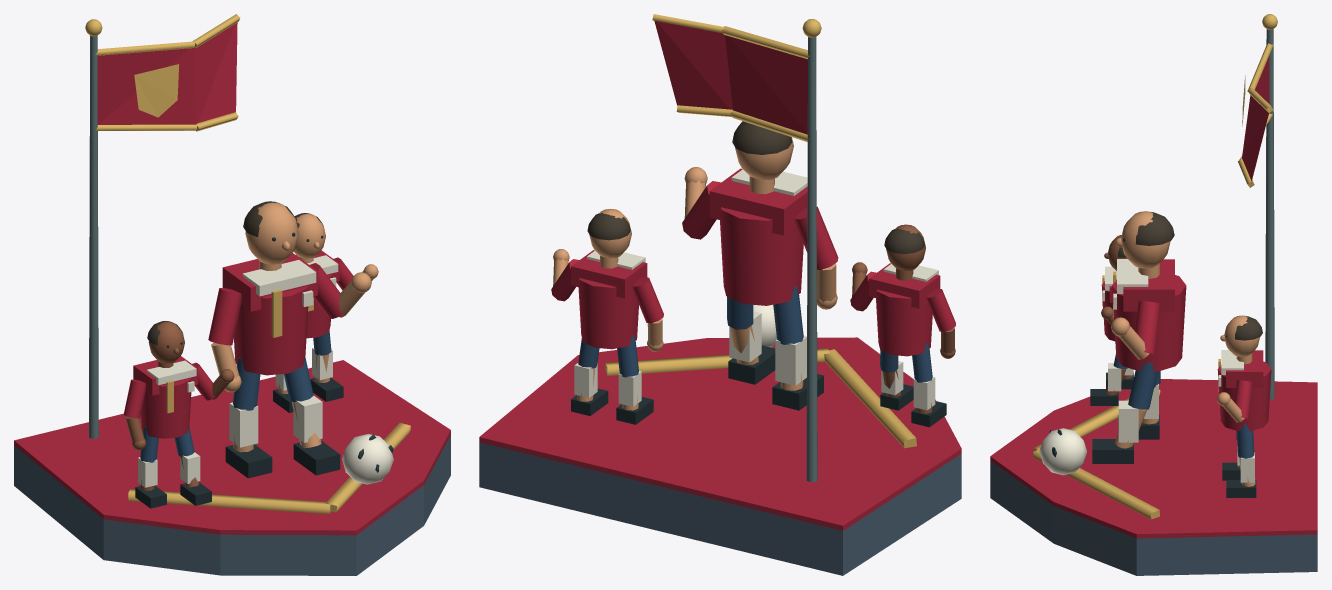
File: expedition.glb
3 views of the same model, side by side, from view 1: azimuth 30°, elevation 25°; view 2: azimuth 150°, elevation 25°; view 3: azimuth 270°, elevation 25° (orthographic). The views are drawn at different scales.
Visible parts, largest first — view 1: foundation_crimson, foundation_slate, team_banner_crimson, captain_torso_crimson, banner_pole_iron, base_chevron_gold, captain_arms_crimson, captain_socks_white, captain_boots_black, captain_head_skin, squad_left_torso_crimson, banner_trim_gold (+19 smaller); view 2: foundation_crimson, foundation_slate, team_banner_crimson, captain_torso_crimson, banner_pole_iron, base_chevron_gold, squad_right_torso_crimson, squad_left_torso_crimson, captain_shoulders_crimson, banner_trim_gold, captain_arms_crimson, captain_socks_white (+22 smaller); view 3: foundation_crimson, foundation_slate, captain_torso_crimson, banner_pole_iron, base_chevron_gold, football_white, team_banner_crimson, captain_shoulders_crimson, squad_right_torso_crimson, captain_head_skin, captain_boots_black, captain_socks_white (+15 smaller).
Part boxes in pixels (x1,y1,x2,y2): foundation_crimson: (14,360,450,535); foundation_slate: (14,435,450,575); team_banner_crimson: (97,22,237,124); captain_torso_crimson: (234,286,308,375); banner_pole_iron: (89,35,98,438); base_chevron_gold: (128,422,410,514); captain_arms_crimson: (208,263,343,345); captain_socks_white: (229,395,322,447); captain_boots_black: (225,440,340,478); captain_head_skin: (245,202,298,264); squad_left_torso_crimson: (141,378,191,438); banner_trim_gold: (95,14,240,131); foundation_crimson: (479,337,961,530); foundation_slate: (479,442,961,575); team_banner_crimson: (654,21,807,134); captain_torso_crimson: (720,207,803,305); banner_pole_iron: (806,37,817,482); base_chevron_gold: (605,348,916,448); squad_right_torso_crimson: (578,278,638,349); squad_left_torso_crimson: (876,289,932,356); captain_shoulders_crimson: (709,168,807,235); banner_trim_gold: (652,14,809,141); captain_arms_crimson: (682,181,838,269); captain_socks_white: (729,311,806,385); foundation_crimson: (990,379,1317,538); foundation_slate: (990,461,1317,575); captain_torso_crimson: (1112,275,1186,371); banner_pole_iron: (1265,29,1274,399); base_chevron_gold: (1033,389,1160,519); football_white: (1039,428,1086,475); team_banner_crimson: (1242,56,1269,180); captain_shoulders_crimson: (1123,259,1174,311); squad_right_torso_crimson: (1217,361,1271,430); captain_head_skin: (1121,211,1170,268); captain_boots_black: (1092,415,1159,463); captain_socks_white: (1118,384,1158,442).
Size of the model in its own units: 1 by 1.3 by 0.8879.
